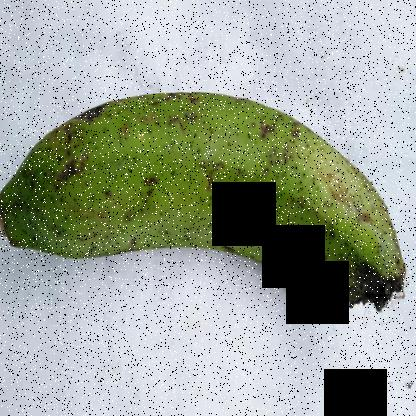unripe: (5, 75, 413, 336)
